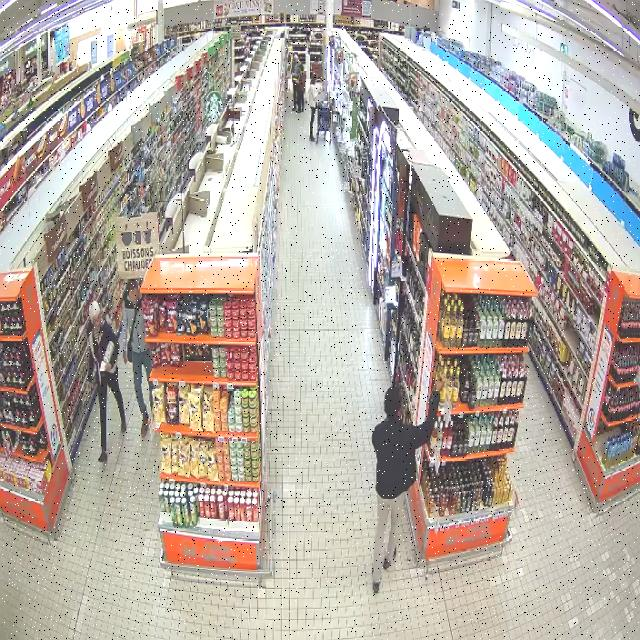article: (102, 341, 115, 363), (428, 384, 436, 405)
bags: (127, 299, 141, 362)
hands: (436, 376, 443, 393), (123, 352, 128, 364), (105, 364, 112, 372)
person: (372, 379, 443, 592), (86, 301, 125, 461), (123, 279, 152, 436)
